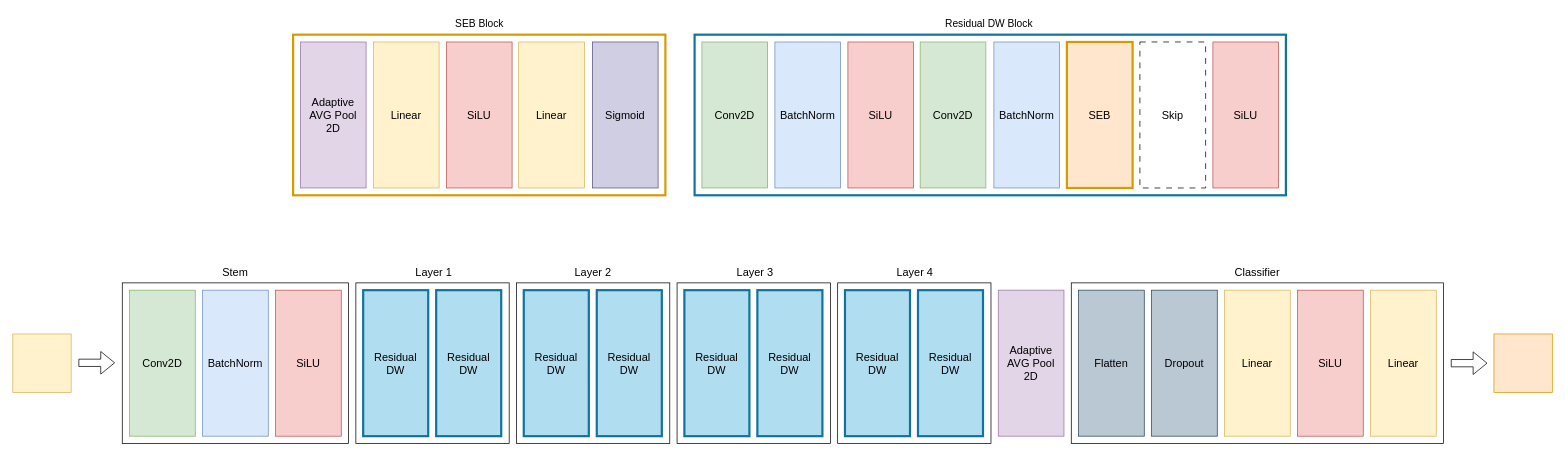
Some shapes in this 1565 by 456 pixel diagram are drawn without their labels. Each missing label, with the centre of its shape:
"Input" belongs at (x=41, y=362).
"Output" belongs at (x=1522, y=362).
